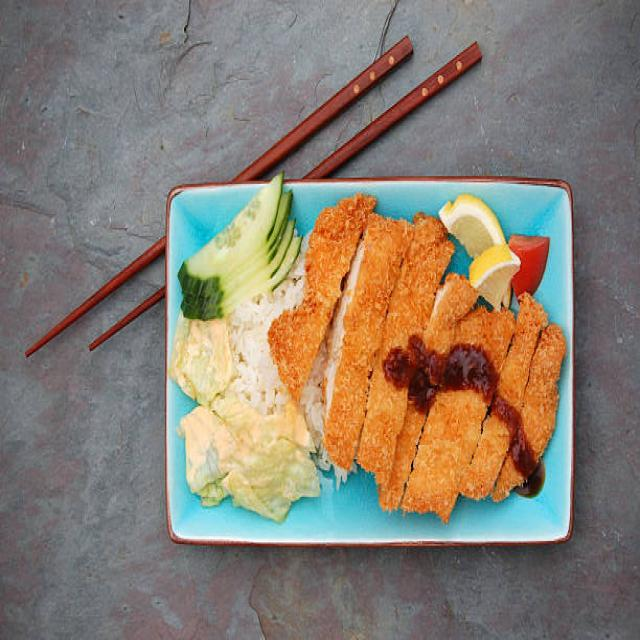Frango: (268, 196, 566, 524)
